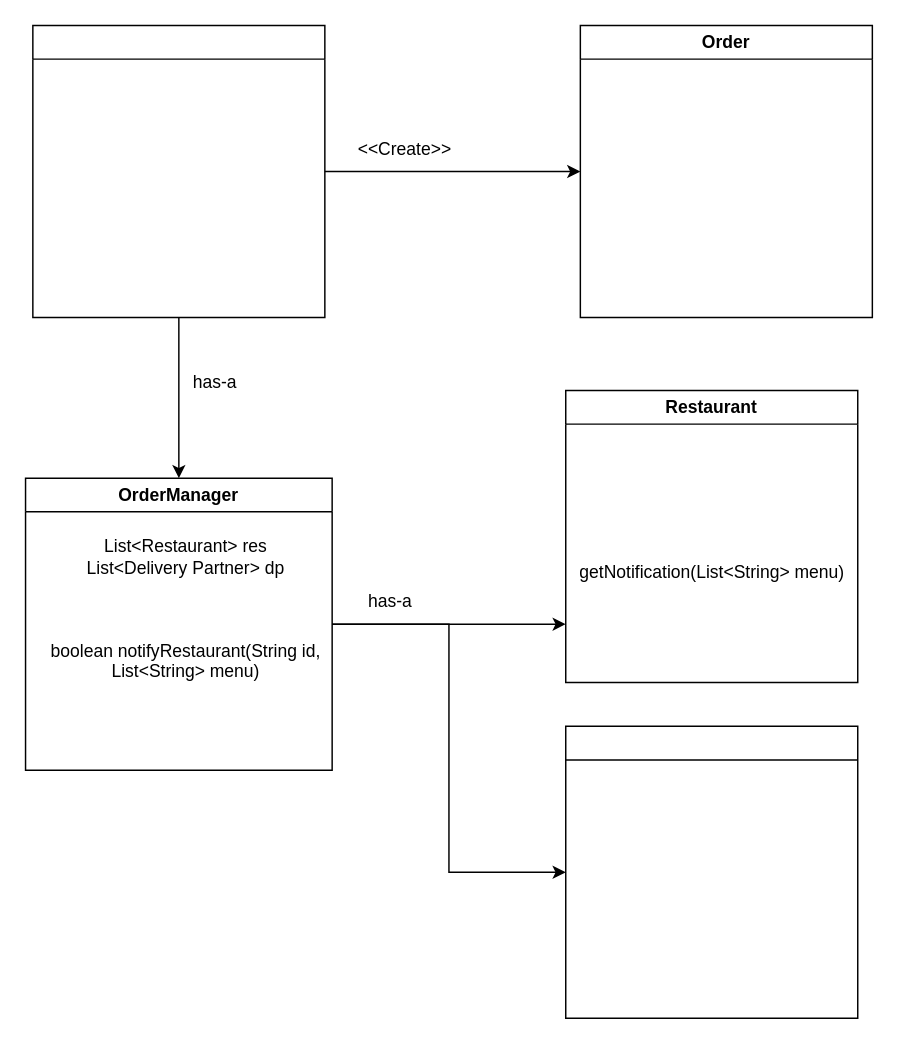
The diagram is 898 pixels wide and 1044 high, and some of its shapes have lost their labels. The centre of each missing label's shape, as x and y in pixels:
Customer: point (178, 171)
DeliveryPartner: point (711, 871)
